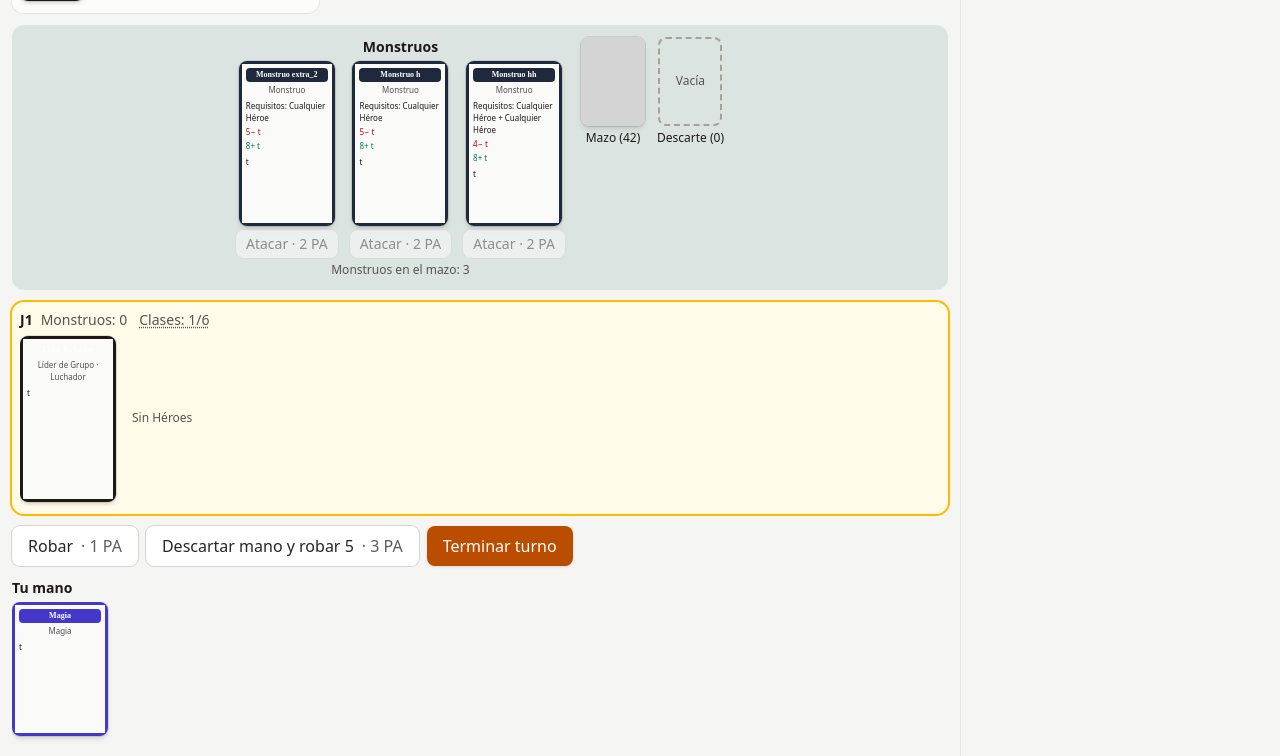
Mesa › en la mano, un clic selecciona la carta y un doble clic abre su detalle
(page scrolled)
Click the button "Magia Magia t". click: (60, 669)
box: left=12, top=602, right=108, bottom=736
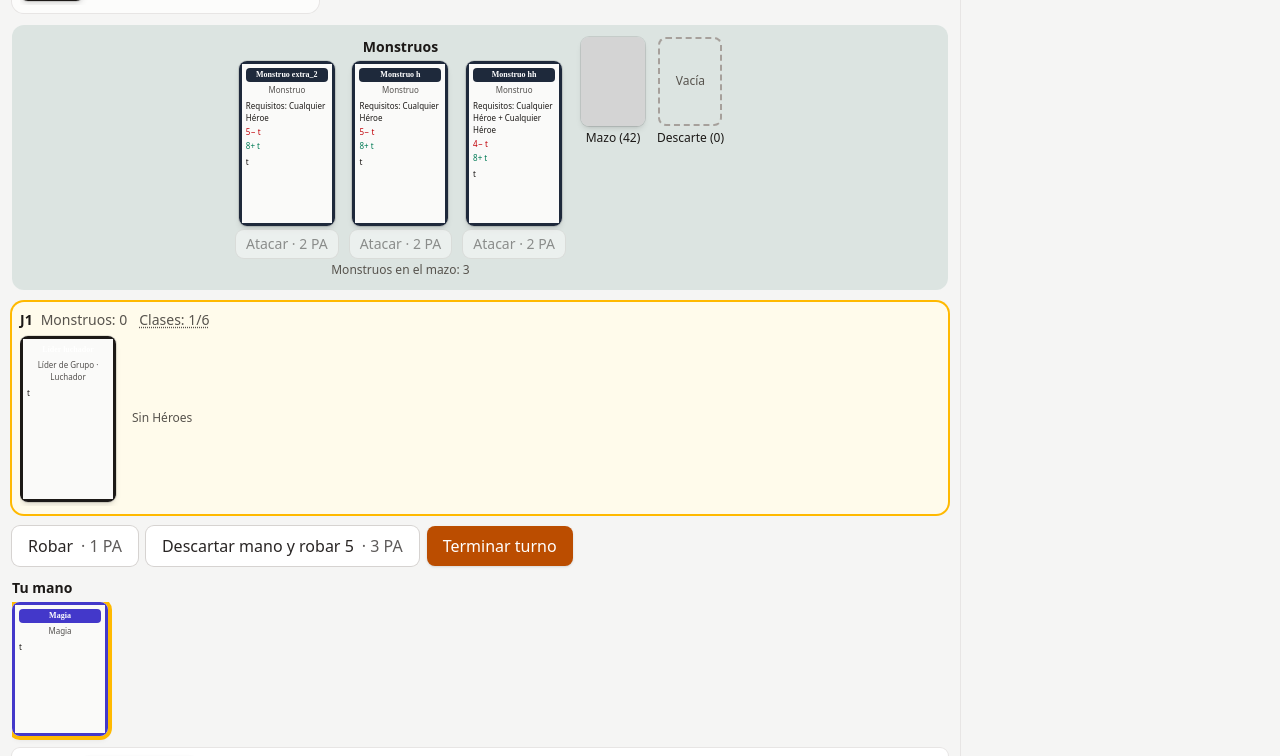
Double-click the button "Magia Magia t" at (60, 669), box left=12, top=602, right=108, bottom=736
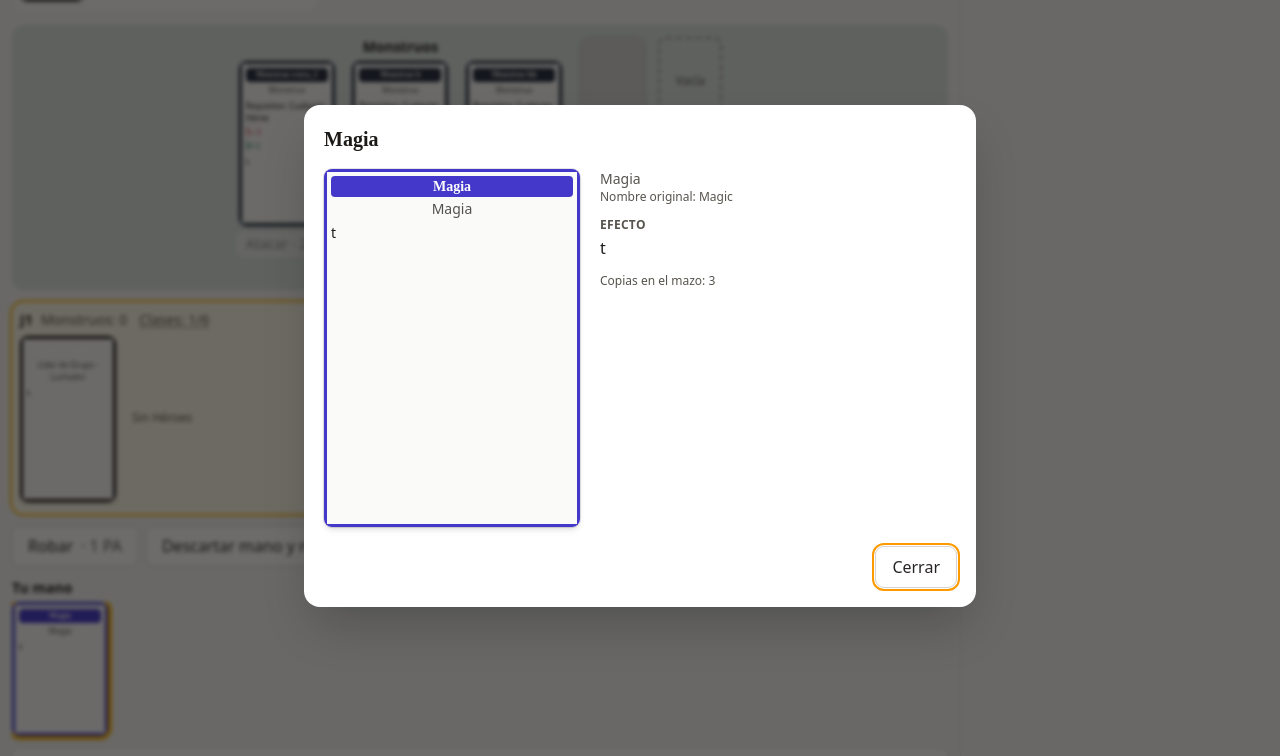
Now the dialog "Magia" is shown, box left=304, top=105, right=976, bottom=607
